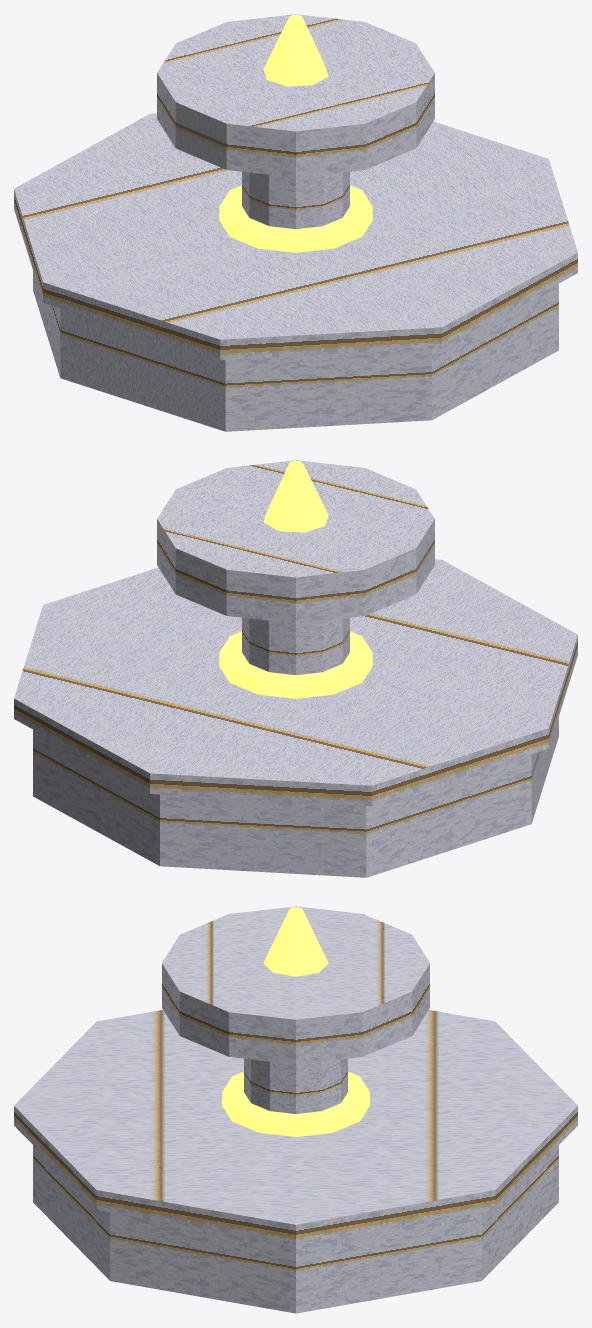
File: fuente_plaza.glb
3 views of the same model, one above another, from view 1: azimuth 30°, elevation 25°; view 2: azimuth 150°, elevation 25°; view 3: azimuth 270°, elevation 25° (orthographic). The views are drawn at different scales.
Visible parts, largest first — view 1: Cylinder.001, Cylinder, Cylinder.005, Cylinder.003, Cylinder.004, Cone; view 2: Cylinder.001, Cylinder, Cylinder.005, Cylinder.003, Cylinder.004, Cone; view 3: Cylinder.001, Cylinder, Cylinder.005, Cylinder.003, Cylinder.004, Cone.
Part boxes in pixels (x1,y1,x2,y2): Cylinder.001: (14, 113, 577, 360); Cylinder: (33, 271, 558, 431); Cylinder.005: (157, 14, 434, 177); Cylinder.003: (242, 171, 349, 228); Cylinder.004: (219, 185, 372, 252); Cone: (263, 14, 328, 86); Cylinder.001: (14, 559, 577, 806); Cylinder: (33, 717, 558, 877); Cylinder.005: (157, 460, 434, 623); Cylinder.003: (242, 617, 349, 674); Cylinder.004: (219, 631, 372, 698); Cone: (263, 460, 328, 532); Cylinder.001: (14, 1010, 577, 1244); Cylinder: (33, 1145, 558, 1313); Cylinder.005: (162, 906, 429, 1064); Cylinder.003: (244, 1058, 347, 1113); Cylinder.004: (222, 1071, 369, 1136); Cone: (263, 907, 328, 976).
Bounding box in the file's own units: 4.12 × 2.36 × 4.12.
Materials: 3 (1 with a texture image).
